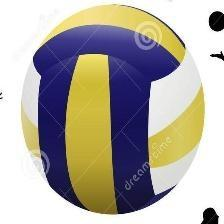Sports-Ball: (21, 3, 206, 218)
